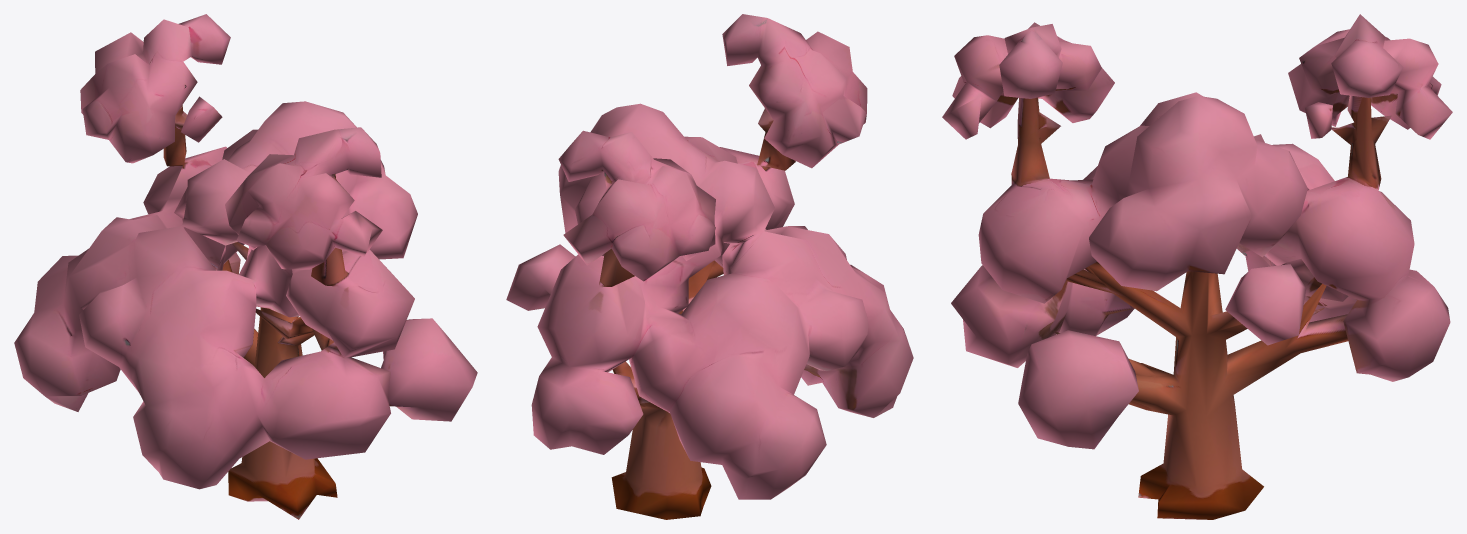
The model's file is SM_Env_CherryBlossom_02.glb.
The picture shows the model from 3 angles, left to right: view 1: azimuth 30°, elevation 25°; view 2: azimuth 150°, elevation 25°; view 3: azimuth 270°, elevation 25°; orthographic projection. The views are drawn at different scales.
Visible parts, largest first — view 1: tripo_node_67377709-f54d-4a58-8db7-722a77ac194c; view 2: tripo_node_67377709-f54d-4a58-8db7-722a77ac194c; view 3: tripo_node_67377709-f54d-4a58-8db7-722a77ac194c.
Part boxes in pixels (x1=…): tripo_node_67377709-f54d-4a58-8db7-722a77ac194c: x1=14, y1=14, x2=477, y2=519; tripo_node_67377709-f54d-4a58-8db7-722a77ac194c: x1=506, y1=14, x2=913, y2=519; tripo_node_67377709-f54d-4a58-8db7-722a77ac194c: x1=942, y1=14, x2=1452, y2=519.
Bounding box in the file's own units: 0.8163 × 1.01 × 1.01.
Materials: 1 (1 with a texture image).
